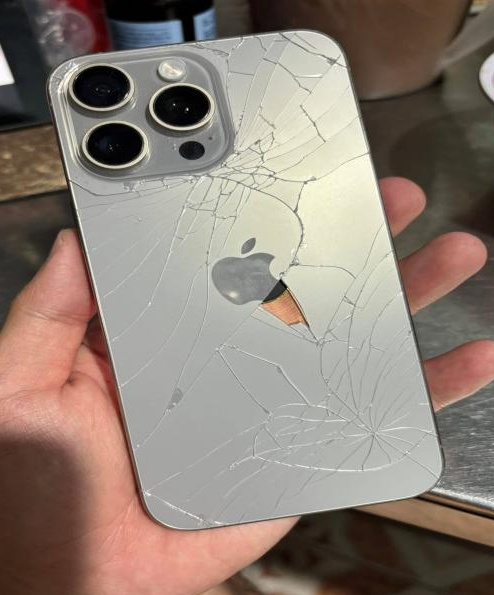physical_damage: (240, 255, 384, 348), (264, 385, 413, 460), (231, 96, 357, 181), (74, 178, 298, 221), (129, 250, 219, 342), (211, 36, 343, 95), (142, 472, 255, 533), (142, 359, 216, 439), (222, 342, 273, 388), (47, 60, 92, 96)
